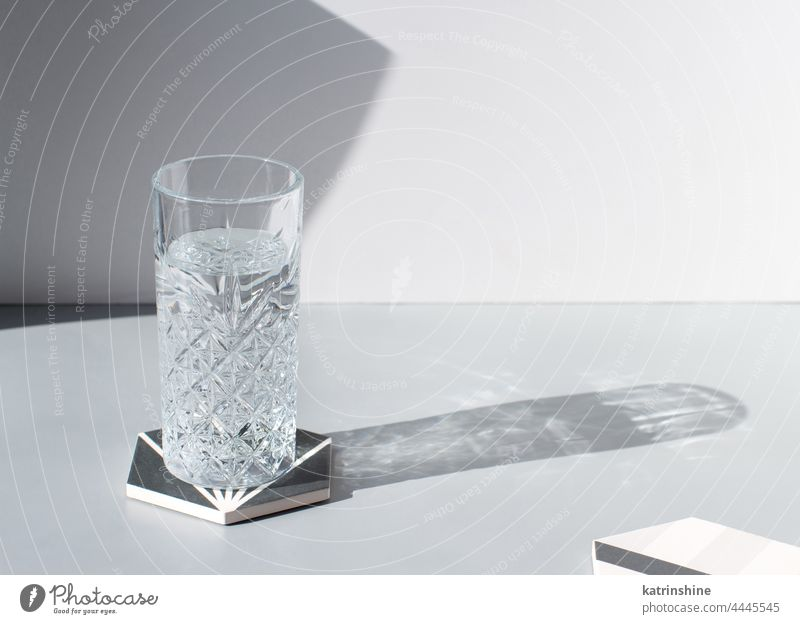glass: (144, 155, 309, 494)
